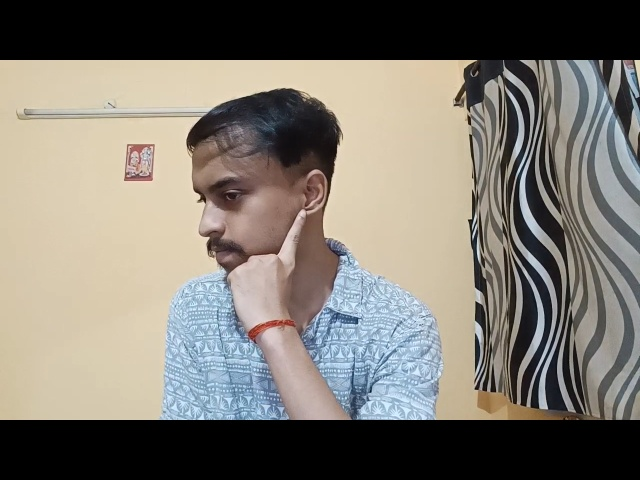Deaf: (238, 156, 362, 332)
